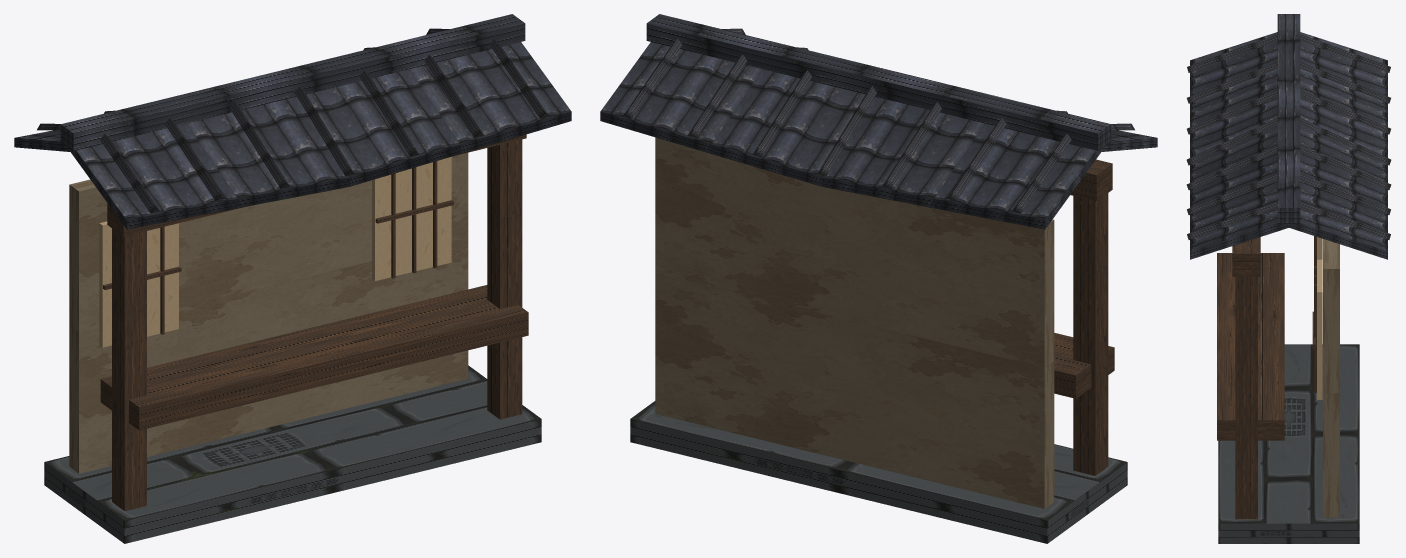
File: market_bay.glb
The picture shows the model from 3 angles, left to right: view 1: azimuth 30°, elevation 25°; view 2: azimuth 150°, elevation 25°; view 3: azimuth 270°, elevation 25°; orthographic projection. The views are drawn at different scales.
Visible parts, largest first — view 1: CandidateMesh; view 2: CandidateMesh; view 3: CandidateMesh.
Part boxes in pixels (x1,y1,x2,y2): CandidateMesh: (14, 14, 571, 543); CandidateMesh: (600, 14, 1157, 543); CandidateMesh: (1186, 14, 1391, 543).
Bounding box in the file's own units: 3.25 × 2.68 × 1.45.
Materials: 6 (6 with a texture image).
